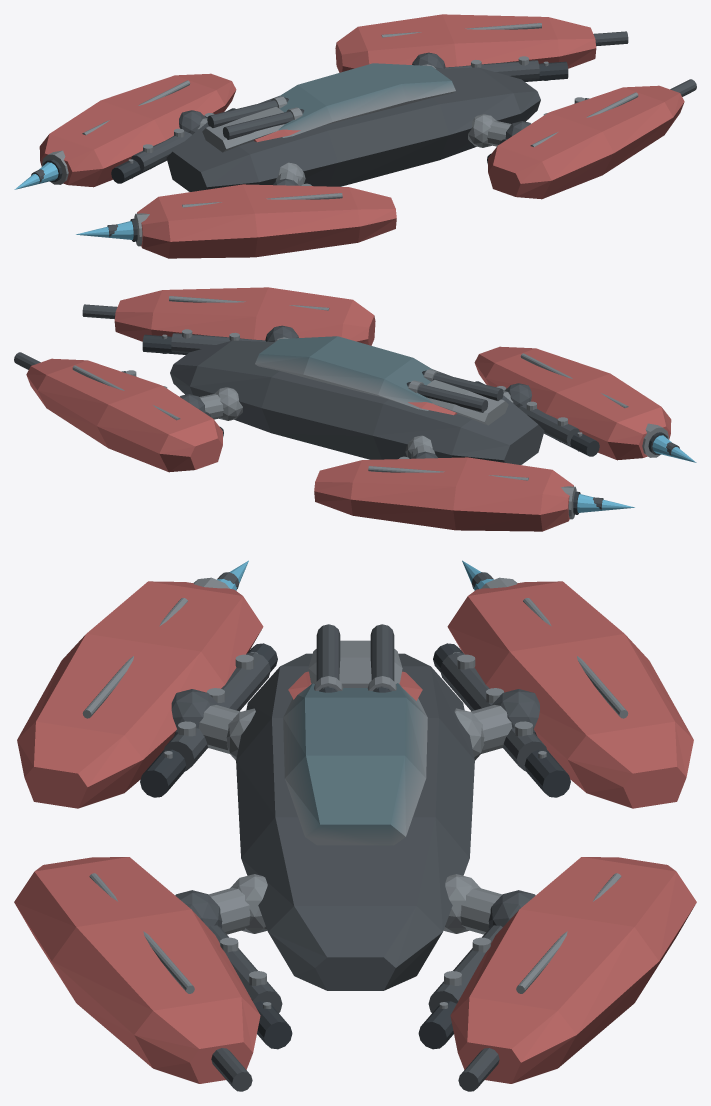
Rendered from x5_red_compact_flight.glb.
The picture shows the model from 3 angles, top to bottom: view 1: azimuth 30°, elevation 25°; view 2: azimuth 150°, elevation 25°; view 3: azimuth 270°, elevation 25°; orthographic projection. The views are drawn at different scales.
Parts seen in each view (by area): view 1: pod_armor_10, center_hull_0, cabin_base_1, pod_mechanics_16, missile_body_3, pod_rail_11, launcher_saddle_2, outer_joint_9, inner_drive_rail_18, engine_flame_15, inner_joint_7, forward_gun_12 (+3 smaller); view 2: pod_armor_10, center_hull_0, cabin_base_1, pod_mechanics_16, missile_body_3, pod_rail_11, launcher_saddle_2, outer_joint_9, inner_drive_rail_18, engine_flame_15, inner_joint_7, forward_gun_12 (+3 smaller); view 3: pod_armor_10, center_hull_0, cabin_base_1, pod_mechanics_16, inner_drive_rail_18, mechanical_arms_8, outer_joint_9, inner_joint_7, pod_rail_11, missile_body_3, mechanical_crossbeam_17, forward_gun_12 (+1 smaller).
Part boxes in pixels (x1,y1,x2,y2): pod_armor_10: [39, 14, 684, 258]; center_hull_0: [166, 67, 540, 191]; cabin_base_1: [278, 63, 455, 137]; pod_mechanics_16: [131, 60, 589, 173]; missile_body_3: [207, 98, 302, 139]; pod_rail_11: [82, 23, 638, 207]; launcher_saddle_2: [202, 106, 284, 152]; outer_joint_9: [179, 52, 530, 185]; inner_drive_rail_18: [111, 61, 568, 183]; engine_flame_15: [14, 162, 133, 239]; inner_joint_7: [278, 114, 496, 185]; forward_gun_12: [31, 31, 696, 236]; pod_armor_10: [26, 287, 671, 531]; center_hull_0: [170, 340, 544, 464]; cabin_base_1: [255, 336, 432, 410]; pod_mechanics_16: [121, 333, 579, 446]; missile_body_3: [408, 371, 503, 412]; pod_rail_11: [72, 296, 628, 480]; launcher_saddle_2: [427, 379, 508, 425]; outer_joint_9: [180, 325, 531, 458]; inner_drive_rail_18: [142, 334, 599, 456]; engine_flame_15: [577, 435, 696, 512]; inner_joint_7: [214, 387, 432, 458]; forward_gun_12: [14, 304, 679, 509]; pod_armor_10: [14, 581, 696, 1083]; center_hull_0: [236, 653, 474, 990]; cabin_base_1: [283, 683, 427, 845]; pod_mechanics_16: [163, 652, 547, 1012]; inner_drive_rail_18: [140, 643, 570, 1049]; mechanical_arms_8: [198, 705, 512, 934]; outer_joint_9: [171, 689, 539, 928]; inner_joint_7: [226, 708, 484, 933]; pod_rail_11: [82, 598, 628, 993]; missile_body_3: [316, 624, 394, 691]; mechanical_crossbeam_17: [178, 654, 532, 985]; forward_gun_12: [211, 572, 499, 1091].
Bounding box in the file's own units: 7.38 × 0.9 × 4.06.
